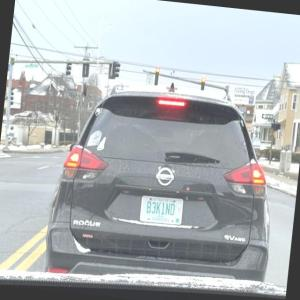Plate: (139, 195, 184, 225)
